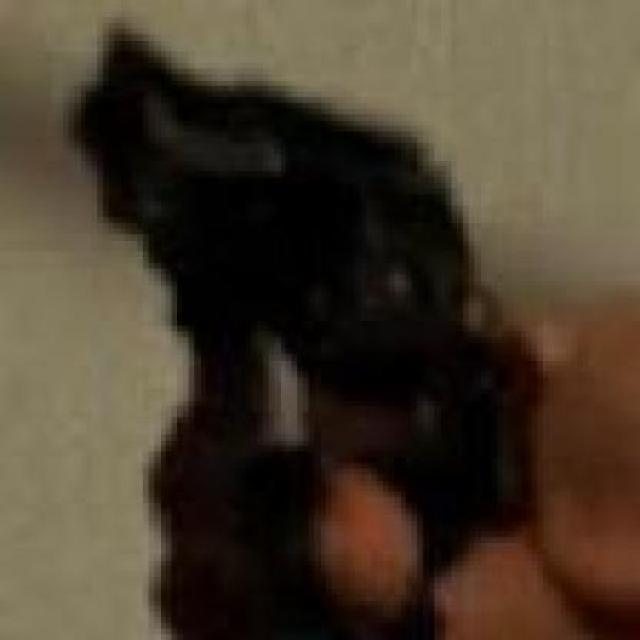rifle: (64, 14, 544, 514)
